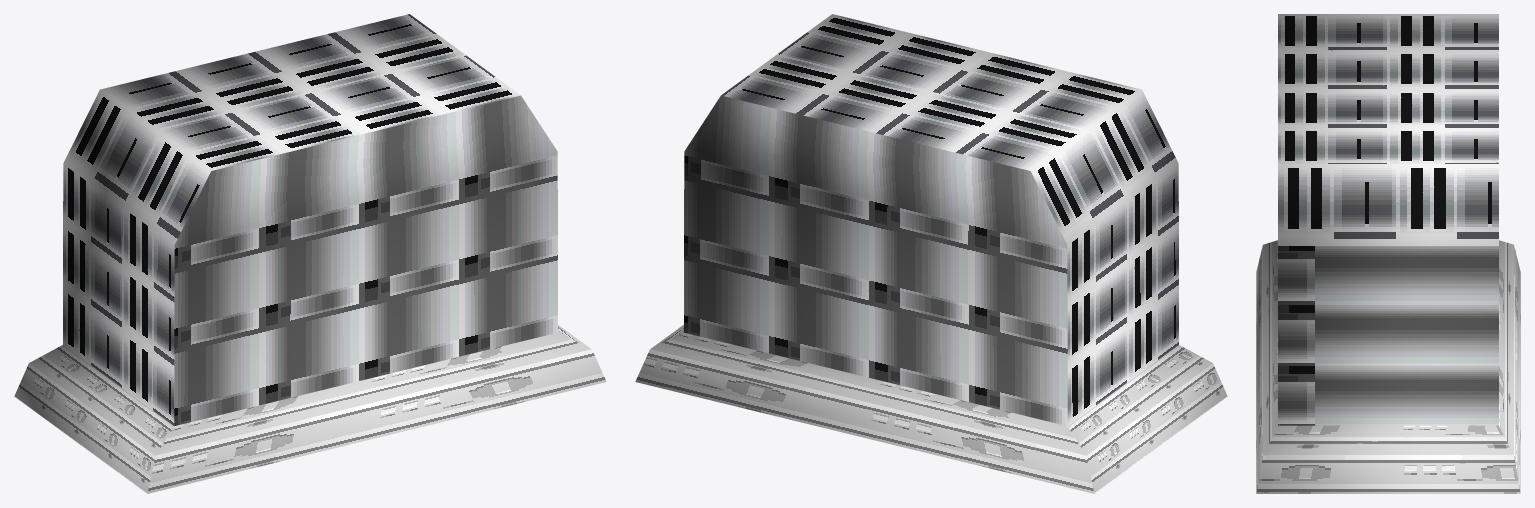
Rendered from 3532IMEL01_33.gltf.
3 views of the same model, side by side, from view 1: azimuth 30°, elevation 25°; view 2: azimuth 150°, elevation 25°; view 3: azimuth 270°, elevation 25° (orthographic).
Visible parts, largest first — view 1: 3532IMEL01_33; view 2: 3532IMEL01_33; view 3: 3532IMEL01_33.
Part boxes in pixels (x1,y1,x2,y2): 3532IMEL01_33: [14, 14, 606, 493]; 3532IMEL01_33: [635, 14, 1227, 493]; 3532IMEL01_33: [1256, 14, 1520, 493].
Size of the model in its own units: 0.784 by 0.4959 by 0.3942.
Materials: 4 (4 with a texture image).
